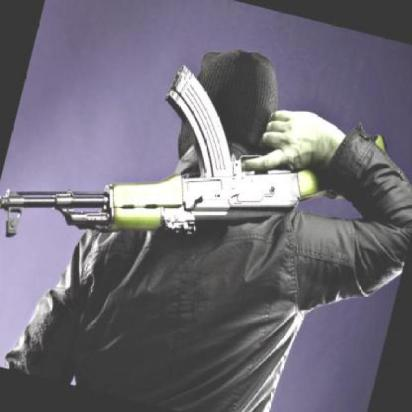Gun: (0, 79, 304, 232)
